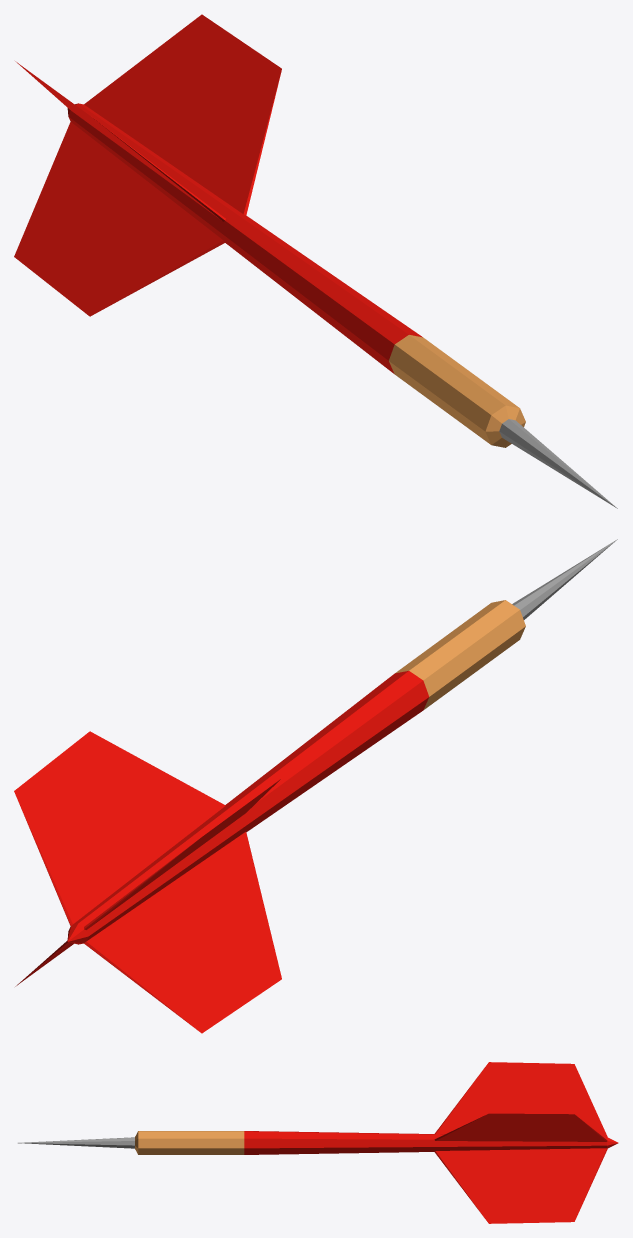
Rendered from dart.fbx.
3 views of the same model, one above another, from view 1: azimuth 30°, elevation 25°; view 2: azimuth 150°, elevation 25°; view 3: azimuth 270°, elevation 25° (orthographic). The views are drawn at different scales.
Visible parts, largest first — view 1: Cone; view 2: Cone; view 3: Cone.
Boxes of the visible parts, box(x1,y1,x2,y2) form: Cone: box(14, 14, 617, 508); Cone: box(14, 539, 617, 1033); Cone: box(18, 1062, 618, 1223).
Bounding box in the file's own units: 101 × 101 × 501.
